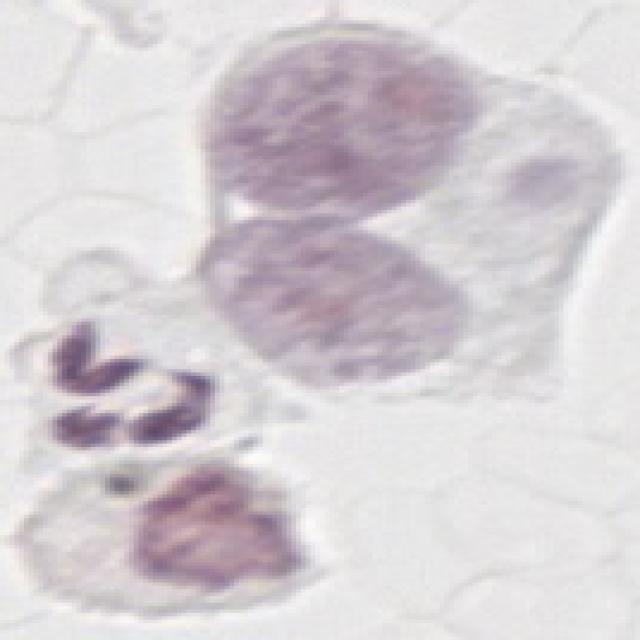cytoplasm: (6, 436, 331, 638)
nucleus: (178, 154, 480, 446), (209, 30, 482, 231), (117, 456, 306, 603)
